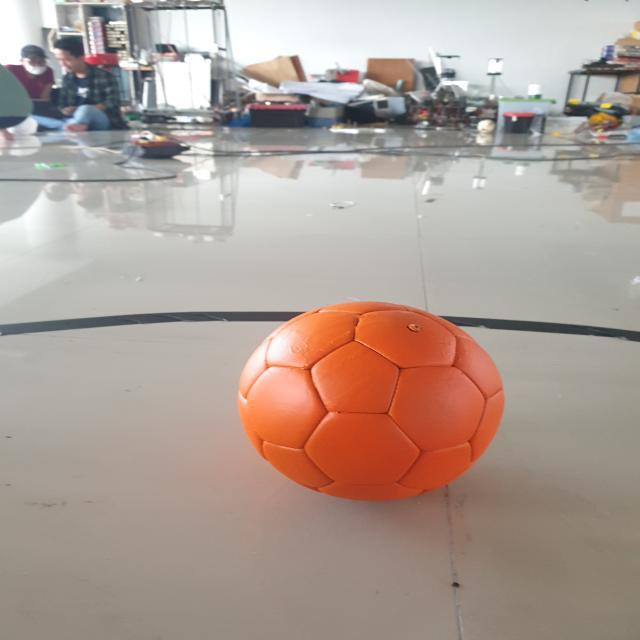bola: (232, 296, 510, 514)
